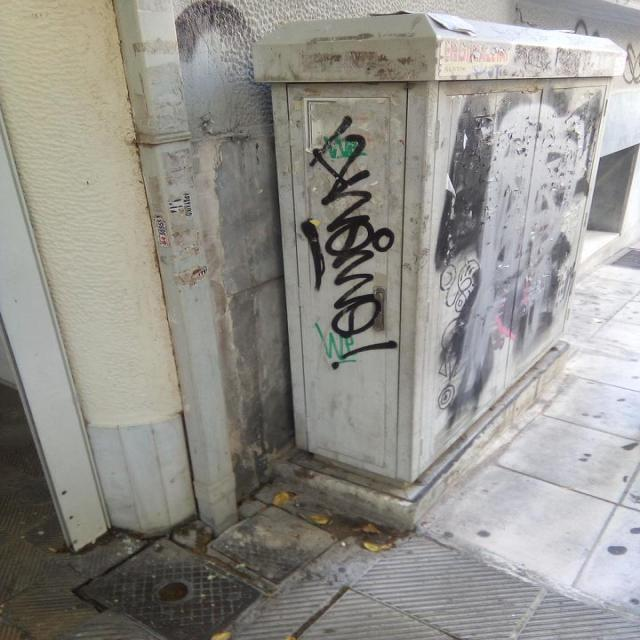nonspitting: (302, 116, 396, 370)
